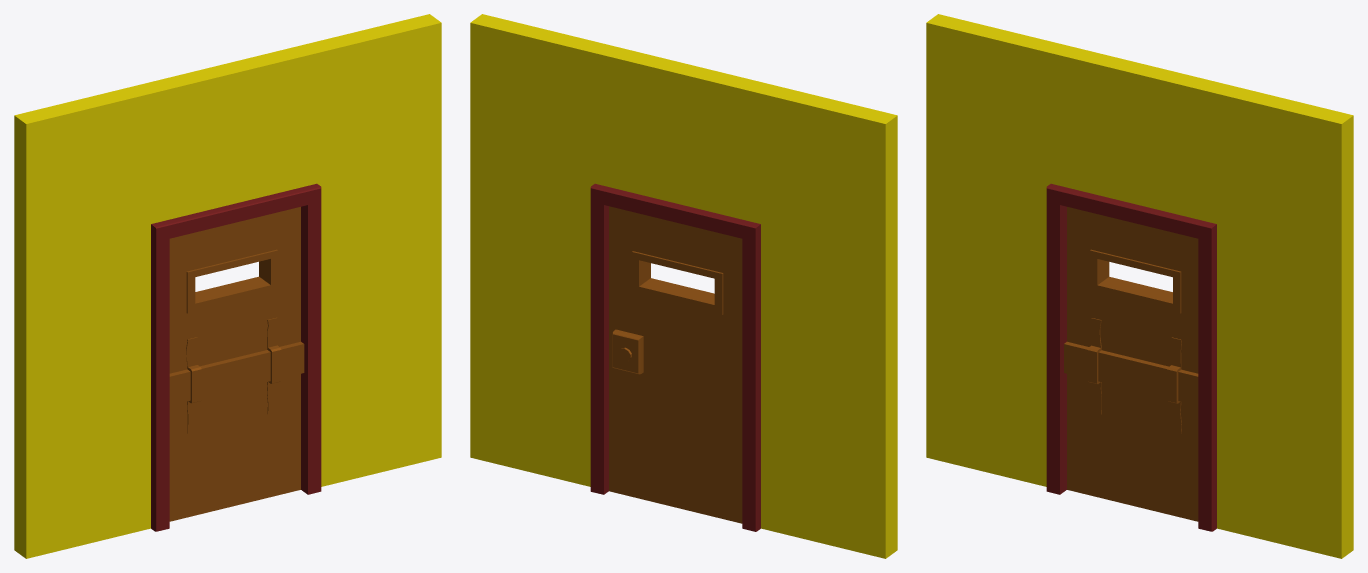
The model's file is Wall_300x300_MetalDoor.fbx.
3 views of the same model, side by side, from view 1: azimuth 30°, elevation 25°; view 2: azimuth 150°, elevation 25°; view 3: azimuth 330°, elevation 25° (orthographic).
Parts seen in each view (by area): view 1: Wall_300x300_Asylum_door, Door, Bar; view 2: Wall_300x300_Asylum_door, Door, Lock; view 3: Wall_300x300_Asylum_door, Door, Bar.
Part boxes in pixels (x1=…): Wall_300x300_Asylum_door: x1=14, y1=14, x2=441, y2=558; Door: x1=169, y1=207, x2=300, y2=521; Bar: x1=169, y1=317, x2=304, y2=433; Wall_300x300_Asylum_door: x1=470, y1=14, x2=897, y2=558; Door: x1=609, y1=206, x2=742, y2=523; Lock: x1=612, y1=329, x2=643, y2=374; Wall_300x300_Asylum_door: x1=926, y1=14, x2=1353, y2=558; Door: x1=1067, y1=207, x2=1198, y2=521; Bar: x1=1064, y1=318, x2=1198, y2=433.
Size of the model in its own units: 300 by 300 by 27.6.
